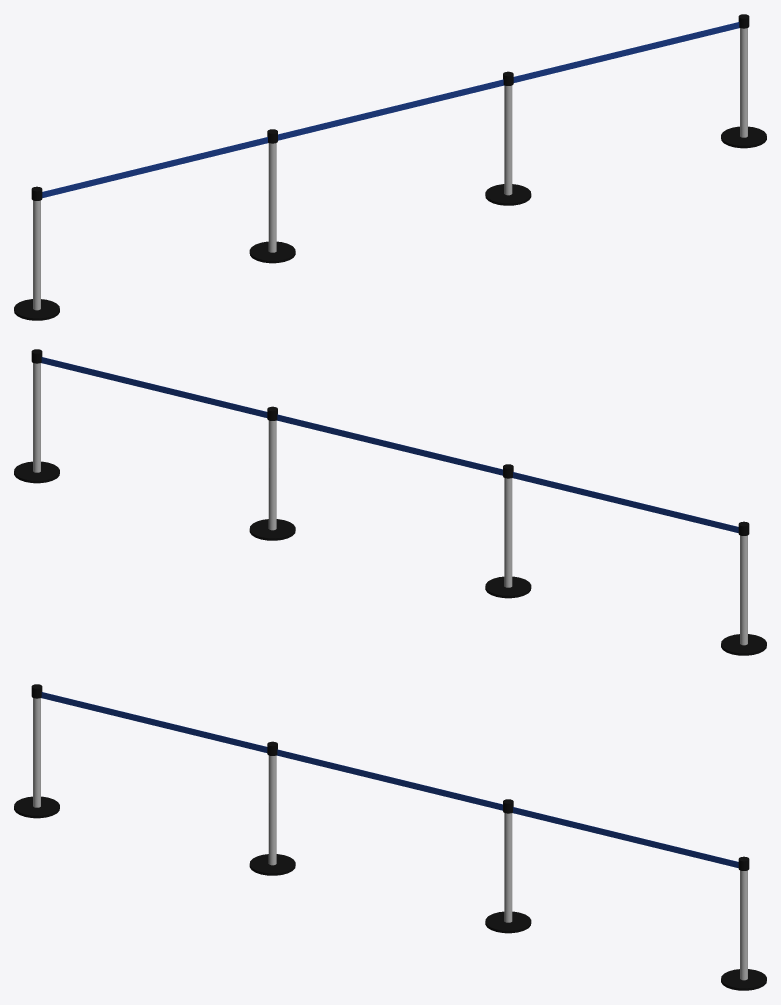
File: airport.queue.run_3.glb
3 renders of one model, top to bottom at view 1: azimuth 30°, elevation 25°; view 2: azimuth 150°, elevation 25°; view 3: azimuth 330°, elevation 25°, orthographic.
Parts seen in each view (by area): view 1: main__plastic_blue, main__steel_stainless, main__plastic_black; view 2: main__plastic_blue, main__steel_stainless, main__plastic_black; view 3: main__plastic_blue, main__steel_stainless, main__plastic_black.
Part boxes in pixels (left/top/right/bottom): main__plastic_blue: left=42, top=22, right=739, bottom=197; main__steel_stainless: left=33, top=28, right=747, bottom=310; main__plastic_black: left=14, top=14, right=766, bottom=320; main__plastic_blue: left=41, top=357, right=738, bottom=532; main__steel_stainless: left=33, top=363, right=747, bottom=645; main__plastic_black: left=14, top=349, right=766, bottom=655; main__plastic_blue: left=41, top=692, right=738, bottom=867; main__steel_stainless: left=33, top=698, right=747, bottom=980; main__plastic_black: left=14, top=684, right=766, bottom=990.
Bounding box in the file's own units: 6.34 × 0.99 × 0.34.
